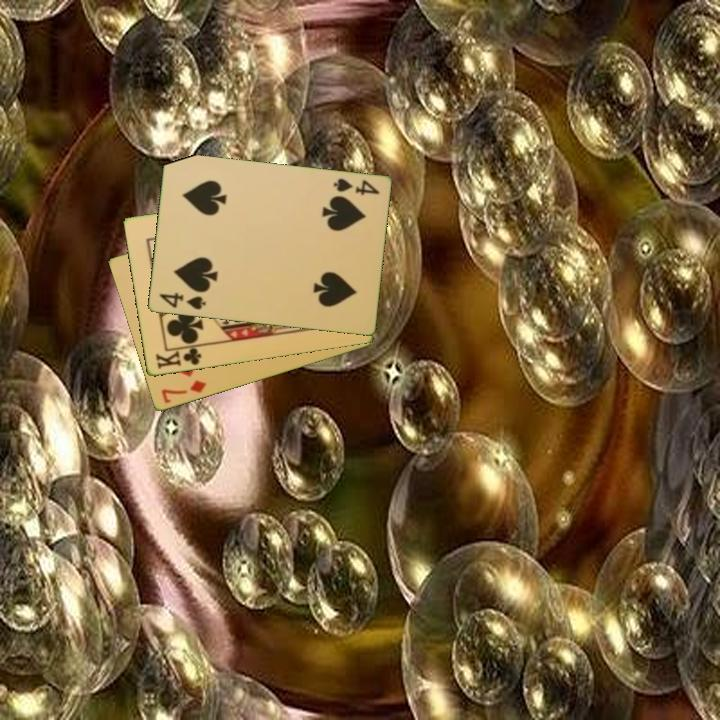4s: (155, 289, 208, 313), (330, 175, 382, 199)
7d: (158, 376, 209, 406)
Kc: (152, 343, 205, 373)
